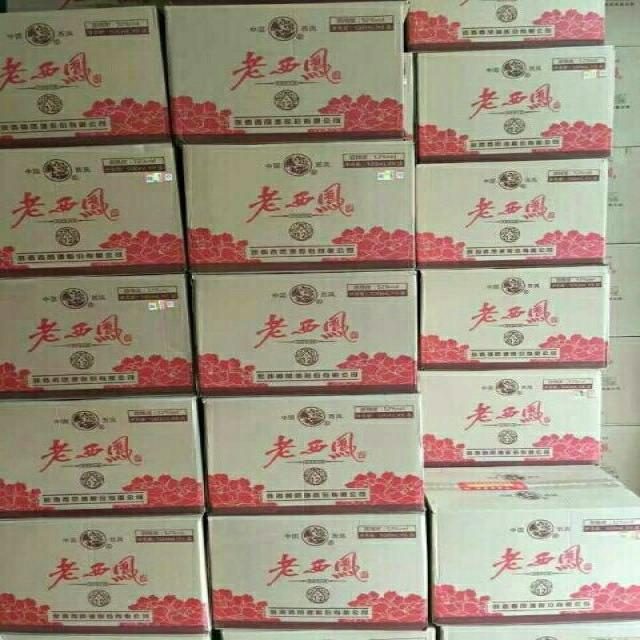box: (424, 465, 639, 624), (165, 2, 408, 137), (182, 137, 414, 267), (192, 271, 416, 392), (0, 509, 214, 633), (201, 394, 424, 509), (209, 512, 428, 629), (0, 396, 206, 513), (0, 143, 185, 271), (415, 45, 613, 162), (3, 274, 194, 394), (0, 7, 171, 139), (414, 157, 608, 265), (420, 263, 609, 369), (418, 369, 603, 467), (406, 1, 605, 48)
